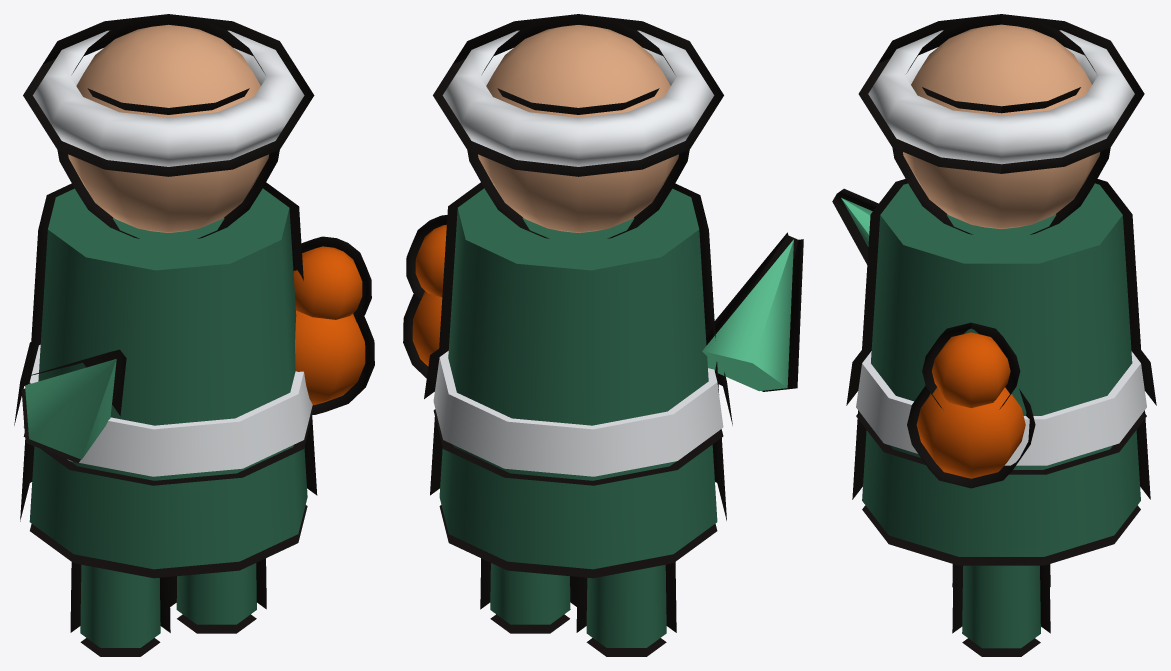
The model's file is thaylang.glb.
3 views of the same model, side by side, from view 1: azimuth 30°, elevation 25°; view 2: azimuth 150°, elevation 25°; view 3: azimuth 270°, elevation 25° (orthographic).
Visible parts, largest first — view 1: MT_Torso, MT_Head, MT_Scarf, MT_Belt, MT_Scarf_outline, MT_Torso_outline, MT_Herb, MT_Leg_0, MT_GourdB, MT_GourdT, MT_Leg_1, MT_Head_outline (+6 smaller); view 2: MT_Torso, MT_Head, MT_Scarf, MT_Belt, MT_Herb, MT_Torso_outline, MT_Scarf_outline, MT_Leg_0, MT_Leg_1, MT_Head_outline, MT_Herb_outline, MT_Belt_outline (+6 smaller); view 3: MT_Torso, MT_Head, MT_Scarf, MT_Belt, MT_Torso_outline, MT_GourdB, MT_Scarf_outline, MT_Leg_1, MT_GourdT, MT_Head_outline, MT_Belt_outline, MT_GourdB_outline (+4 smaller).
Boxes of the visible parts, x1,y1,x2,y2 form: MT_Torso: [29, 188, 307, 569]; MT_Head: [68, 24, 268, 232]; MT_Scarf: [33, 30, 304, 166]; MT_Belt: [23, 344, 312, 476]; MT_Scarf_outline: [23, 14, 314, 176]; MT_Torso_outline: [20, 182, 317, 578]; MT_Herb: [25, 359, 116, 459]; MT_Leg_0: [80, 564, 160, 647]; MT_GourdB: [295, 310, 365, 405]; MT_GourdT: [293, 246, 362, 319]; MT_Leg_1: [176, 563, 256, 624]; MT_Head_outline: [57, 15, 279, 238]; MT_Torso: [439, 188, 717, 569]; MT_Head: [478, 25, 678, 232]; MT_Scarf: [442, 30, 714, 166]; MT_Belt: [433, 351, 723, 476]; MT_Herb: [702, 239, 793, 391]; MT_Torso_outline: [430, 182, 726, 578]; MT_Scarf_outline: [433, 14, 723, 176]; MT_Leg_0: [586, 564, 666, 647]; MT_Leg_1: [490, 563, 570, 624]; MT_Head_outline: [467, 15, 689, 238]; MT_Herb_outline: [705, 232, 803, 391]; MT_Belt_outline: [424, 349, 732, 485]; MT_Torso: [862, 183, 1140, 556]; MT_Head: [903, 24, 1100, 229]; MT_Scarf: [868, 30, 1134, 164]; MT_Belt: [856, 351, 1146, 465]; MT_Torso_outline: [852, 179, 1150, 565]; MT_GourdB: [916, 387, 1025, 478]; MT_Scarf_outline: [858, 14, 1144, 173]; MT_Leg_1: [962, 565, 1040, 648]; MT_GourdT: [932, 332, 1010, 408]; MT_Head_outline: [892, 15, 1110, 234]; MT_Belt_outline: [846, 350, 1156, 474]; MT_GourdB_outline: [907, 385, 1035, 488].
Bounding box in the file's own units: 0.6846 × 1.08 × 0.535.
